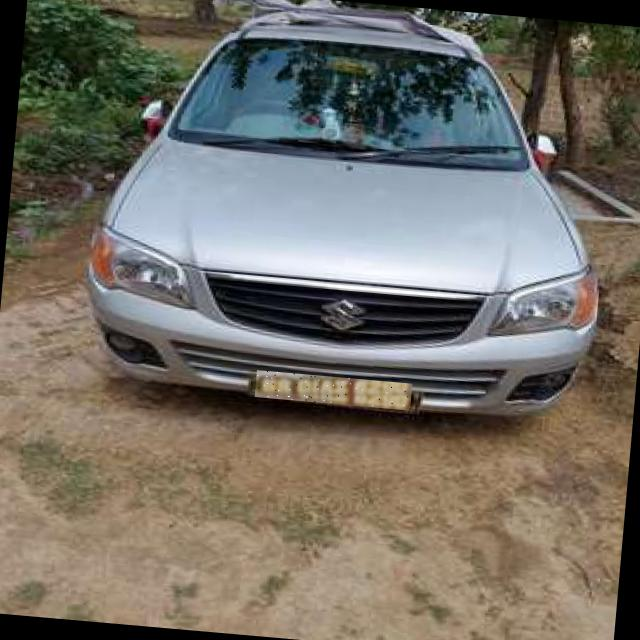Plate: (255, 371, 413, 411)
